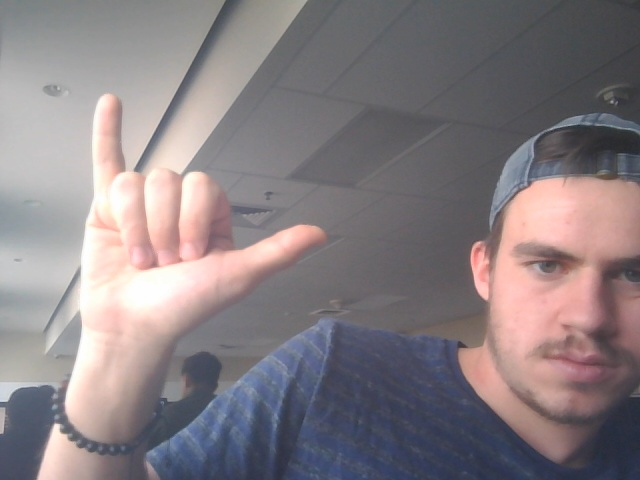birdsup: (70, 92, 337, 350)
